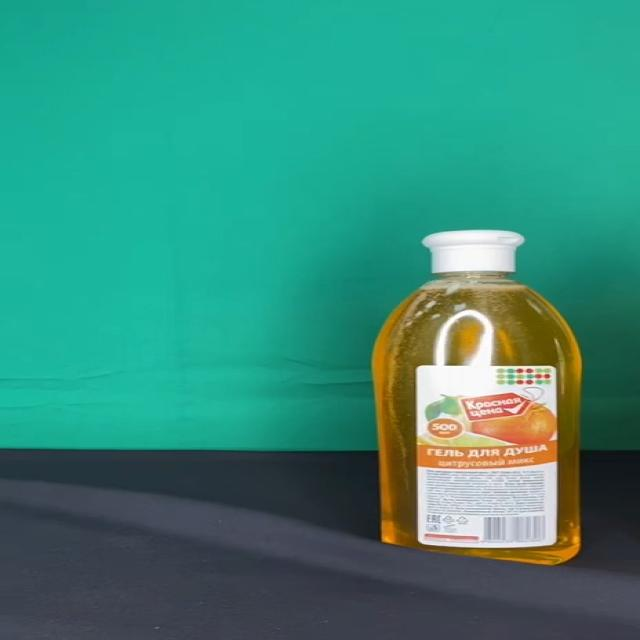Bottle: (372, 230, 580, 564)
Cap: (422, 230, 524, 273)
